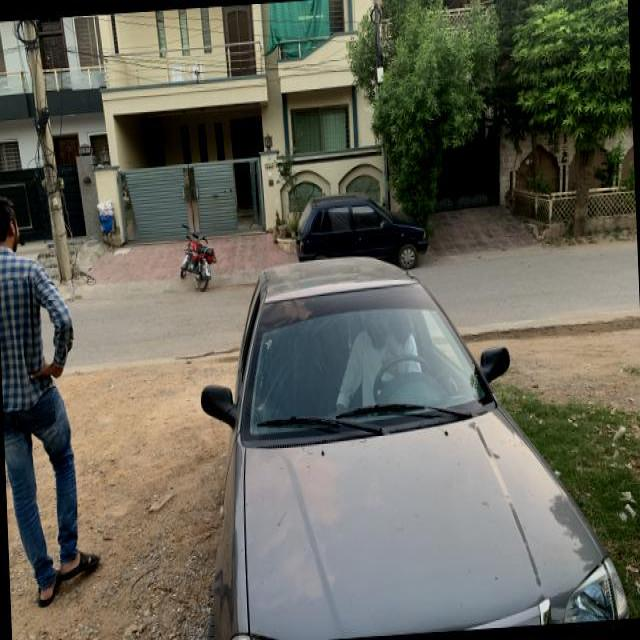no-seatbelt: (342, 324, 439, 415)
